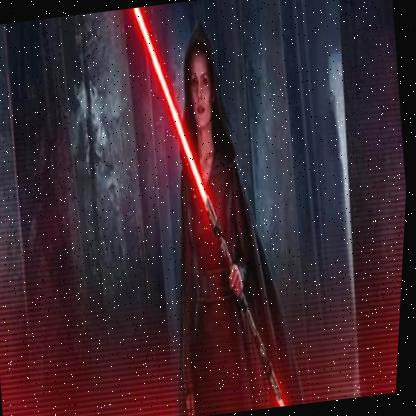person: (123, 18, 303, 416)
sith_lightsaber: (119, 0, 248, 275), (235, 291, 292, 410)
